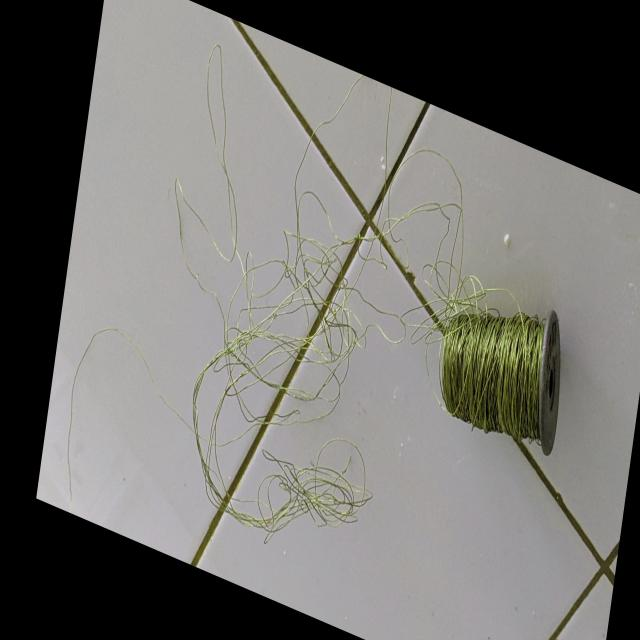Wire Coil: (426, 250, 579, 482)
